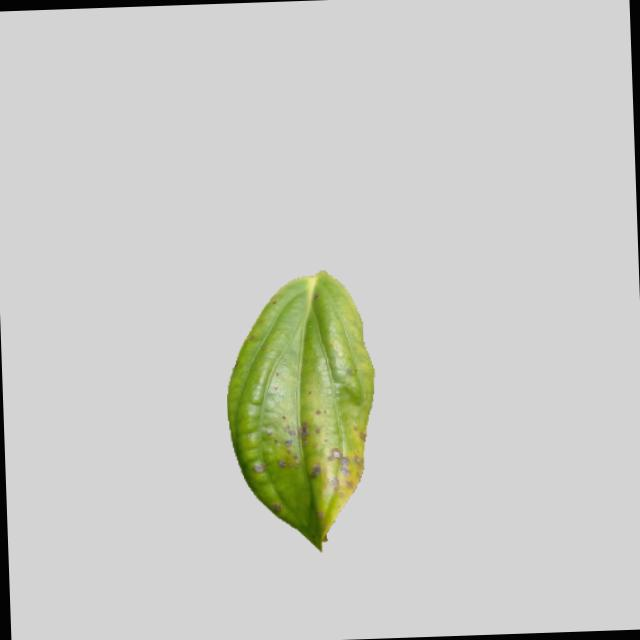yellow-mottle-virus: (224, 262, 390, 551)
